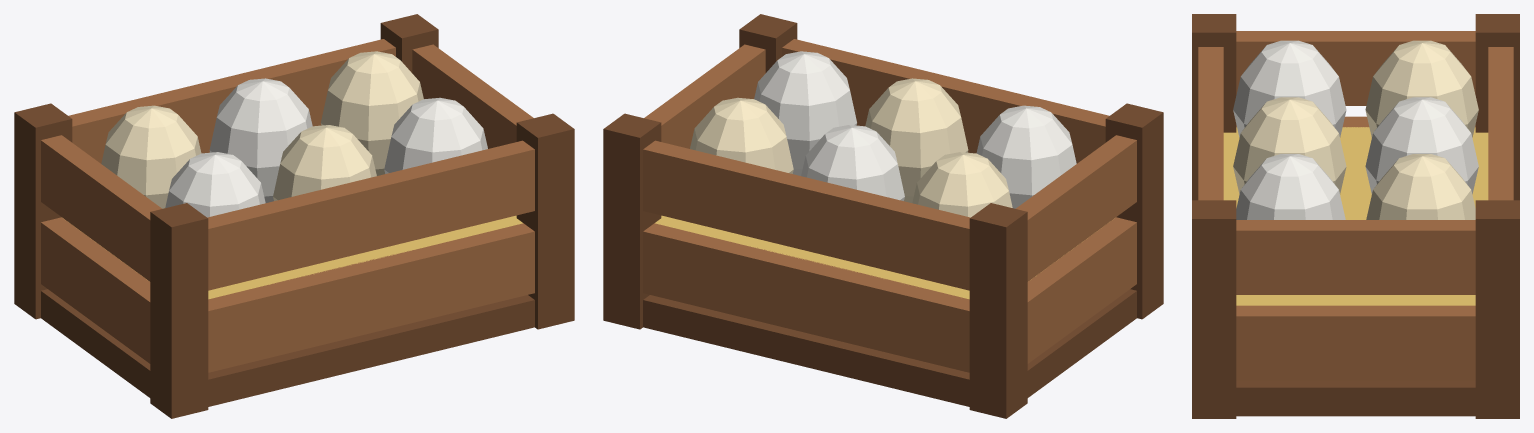
File: EggCrate.fbx
3 views of the same model, side by side, from view 1: azimuth 30°, elevation 25°; view 2: azimuth 150°, elevation 25°; view 3: azimuth 270°, elevation 25° (orthographic). The views are drawn at different scales.
Parts seen in each view (by area): view 1: EggCrate; view 2: EggCrate; view 3: EggCrate.
Boxes of the visible parts, bbox=[...] form: EggCrate: bbox=[14, 14, 574, 418]; EggCrate: bbox=[603, 14, 1163, 418]; EggCrate: bbox=[1192, 14, 1519, 418].
Size of the model in its own units: 86.24 by 42.5 by 58.24.
